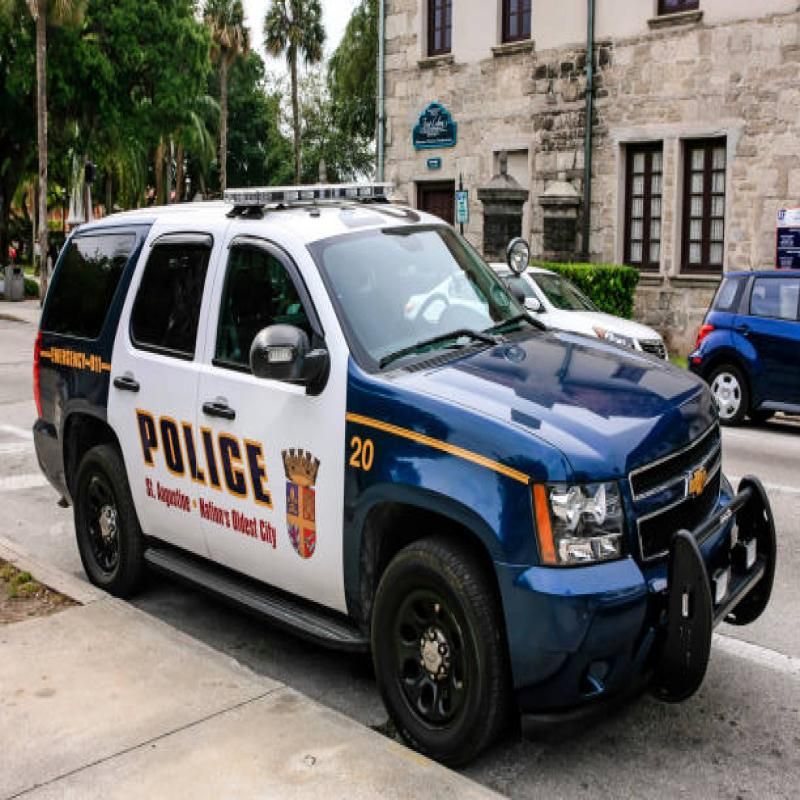AmbulanceSiren: (218, 171, 401, 206)
